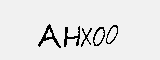А: (37, 22, 61, 50)
Н: (62, 24, 82, 48)
О: (93, 25, 106, 47), (106, 25, 119, 45)
Х: (82, 25, 93, 50)
